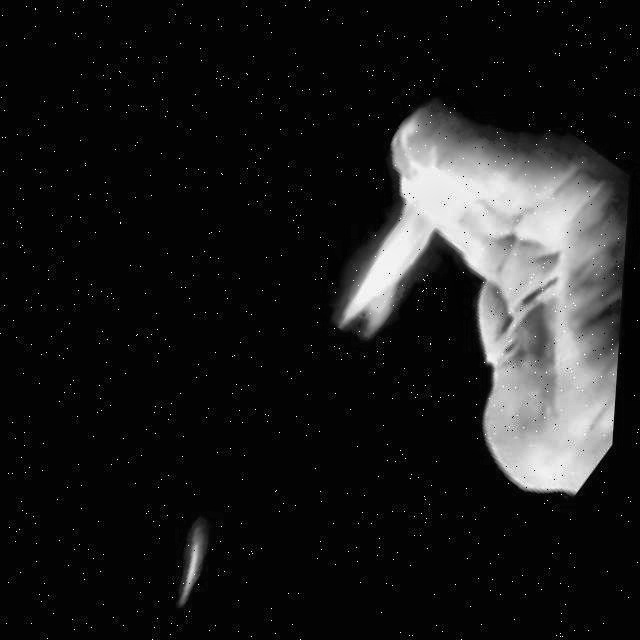Fire: (315, 151, 485, 353)
